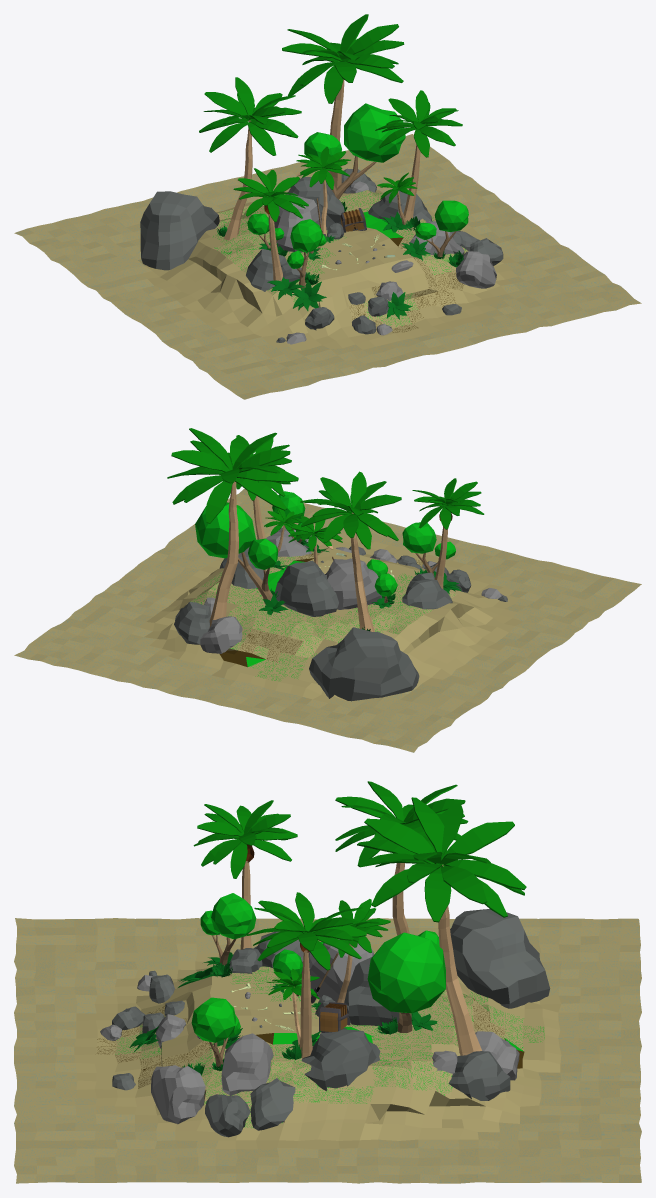
The model's file is treasure-island.glb.
The picture shows the model from 3 angles, top to bottom: view 1: azimuth 30°, elevation 25°; view 2: azimuth 150°, elevation 25°; view 3: azimuth 270°, elevation 25°; orthographic projection. The views are drawn at different scales.
Visible parts, largest first — view 1: sea, palm3, Cube.007, palm4, fa.003, palm5, palm, palm2.001, fa.001, fa, Cube.009, Cube.004 (+7 smaller); view 2: sea, palm3, Cube.007, palm4, fa.003, Cube.004, palm, Cube.011, fa, Cube.003, Cube.006, Cube.002 (+6 smaller); view 3: sea, palm3, Cube.007, fa.003, palm5, palm, palm4, Cube.012, Cube.009, Cube.001, Cube.006, fa (+13 smaller).
Part boxes in pixels (x1,y1,x2,y2): sea: (14, 134, 641, 399); palm3: (282, 14, 404, 188); Cube.007: (140, 191, 219, 270); palm4: (199, 77, 301, 240); fa.003: (304, 103, 405, 199); palm5: (375, 90, 462, 223); palm: (233, 168, 308, 281); palm2.001: (296, 146, 350, 235); fa.001: (415, 200, 468, 257); fa: (287, 219, 322, 288); Cube.009: (456, 251, 496, 288); Cube.004: (286, 177, 344, 230); sea: (14, 488, 641, 752); palm3: (167, 428, 298, 627); Cube.007: (309, 627, 419, 701); palm4: (300, 471, 401, 631); fa.003: (195, 502, 277, 604); Cube.004: (275, 560, 338, 616); palm: (412, 478, 484, 588); Cube.011: (325, 558, 381, 609); fa: (402, 522, 455, 575); Cube.003: (200, 616, 242, 653); Cube.006: (174, 602, 210, 644); Cube.002: (402, 579, 452, 609); sea: (14, 918, 641, 1183); palm3: (357, 797, 526, 1055); Cube.007: (450, 909, 550, 1008); fa.003: (367, 930, 445, 1032); palm5: (246, 892, 366, 1058); palm: (193, 800, 297, 949); palm4: (335, 781, 468, 935); Cube.012: (301, 1029, 380, 1090); Cube.009: (151, 1065, 205, 1124); Cube.001: (221, 1033, 273, 1095); Cube.006: (448, 1051, 510, 1100); fa: (200, 893, 256, 965).
Bounding box in the file's own units: 280 × 143 × 280.
